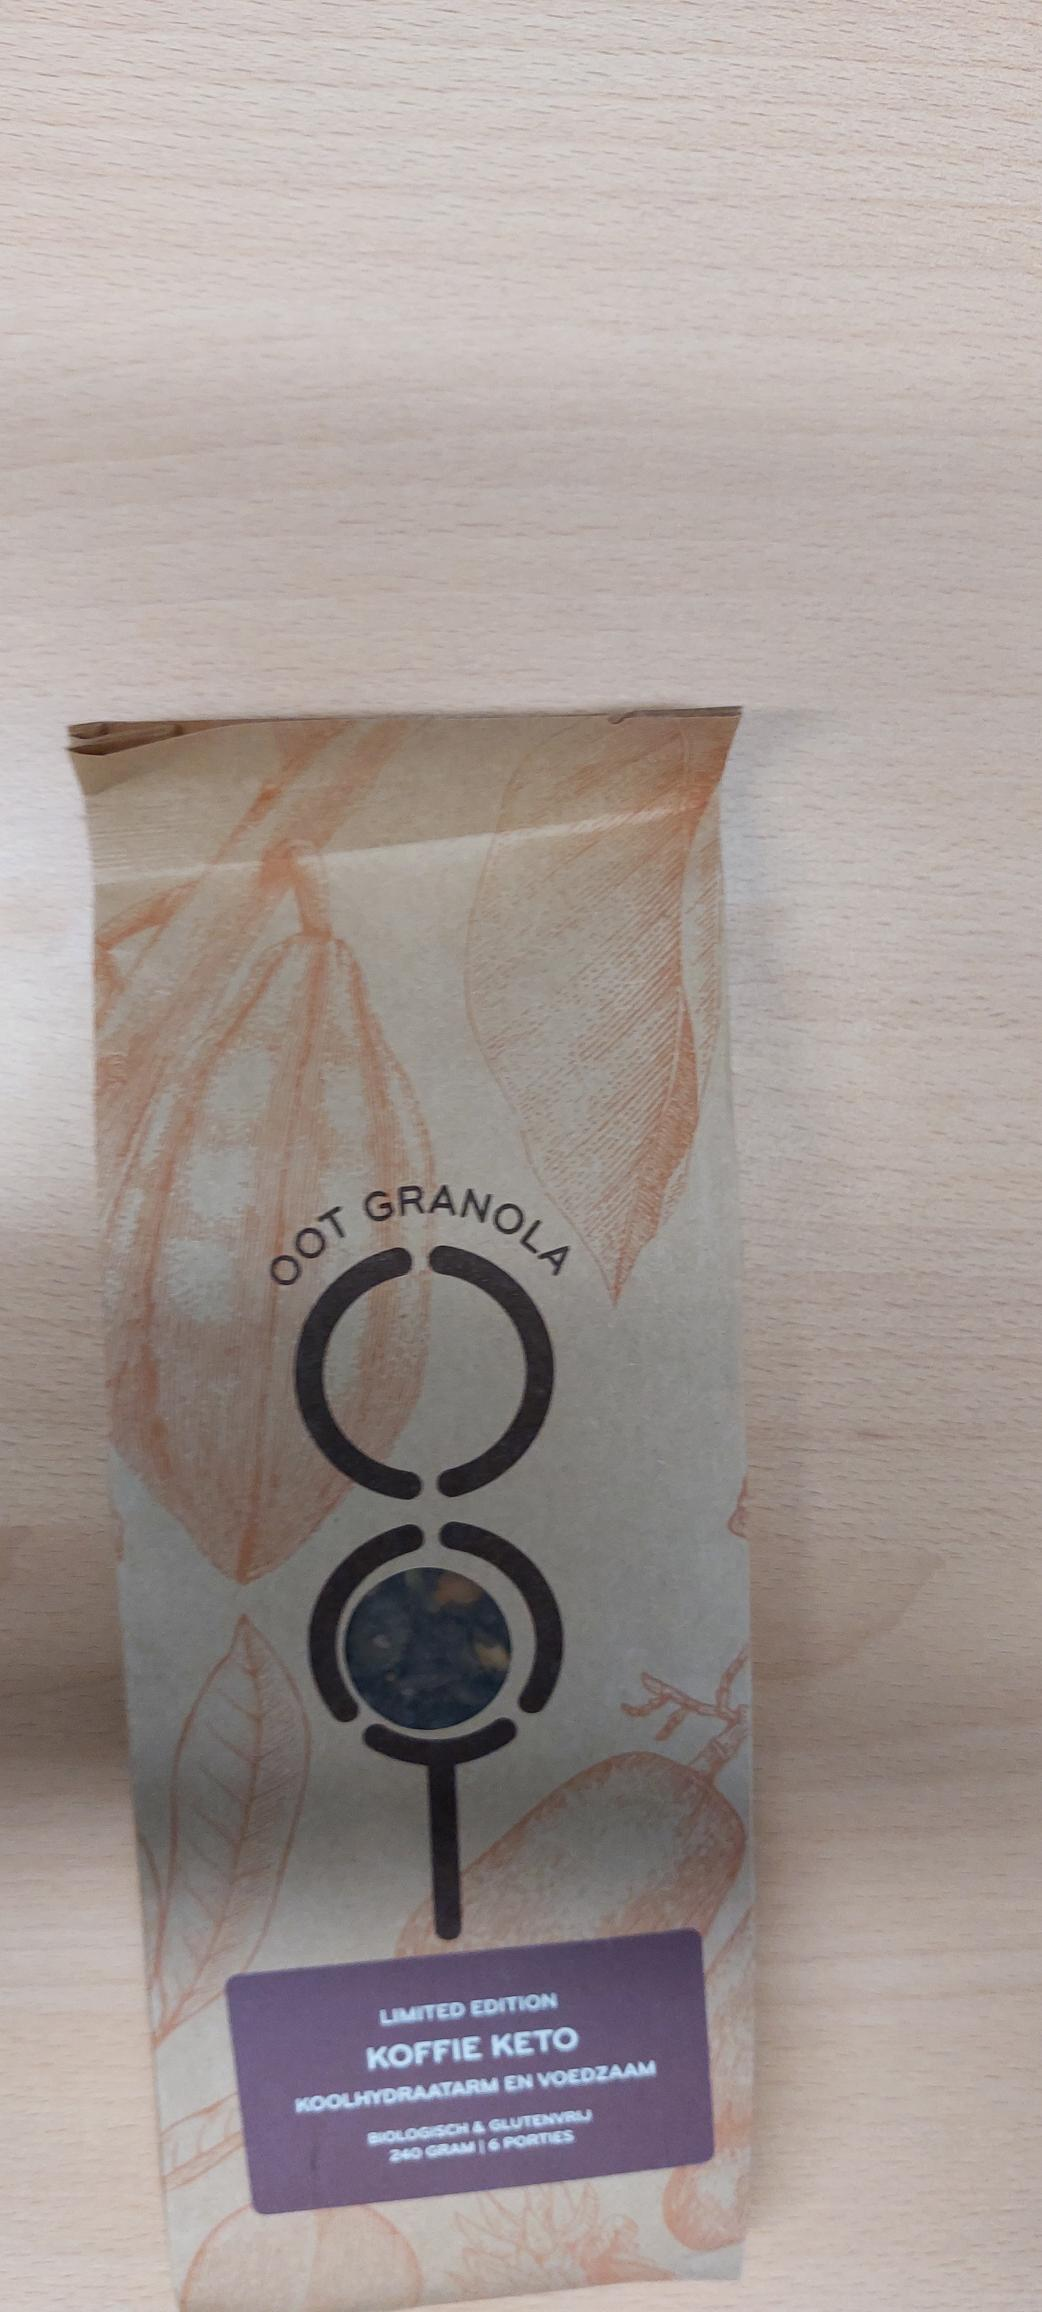KoffieKeto: (203, 1955, 718, 2204)
